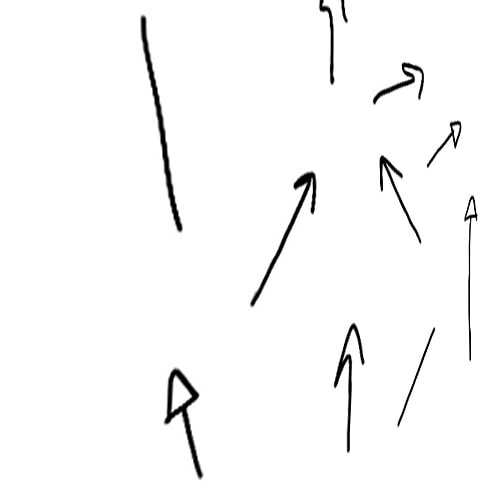arrow: (250, 172, 317, 305), (164, 367, 211, 480), (333, 322, 363, 454), (376, 157, 421, 241), (461, 196, 480, 362), (316, 1, 348, 84), (373, 63, 424, 108), (427, 119, 462, 163)
arrownohead: (137, 16, 186, 231), (397, 327, 436, 425)
